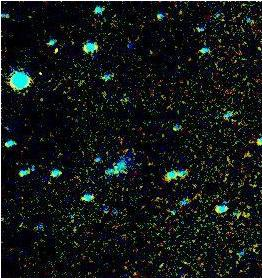star: (41, 36, 71, 66)
